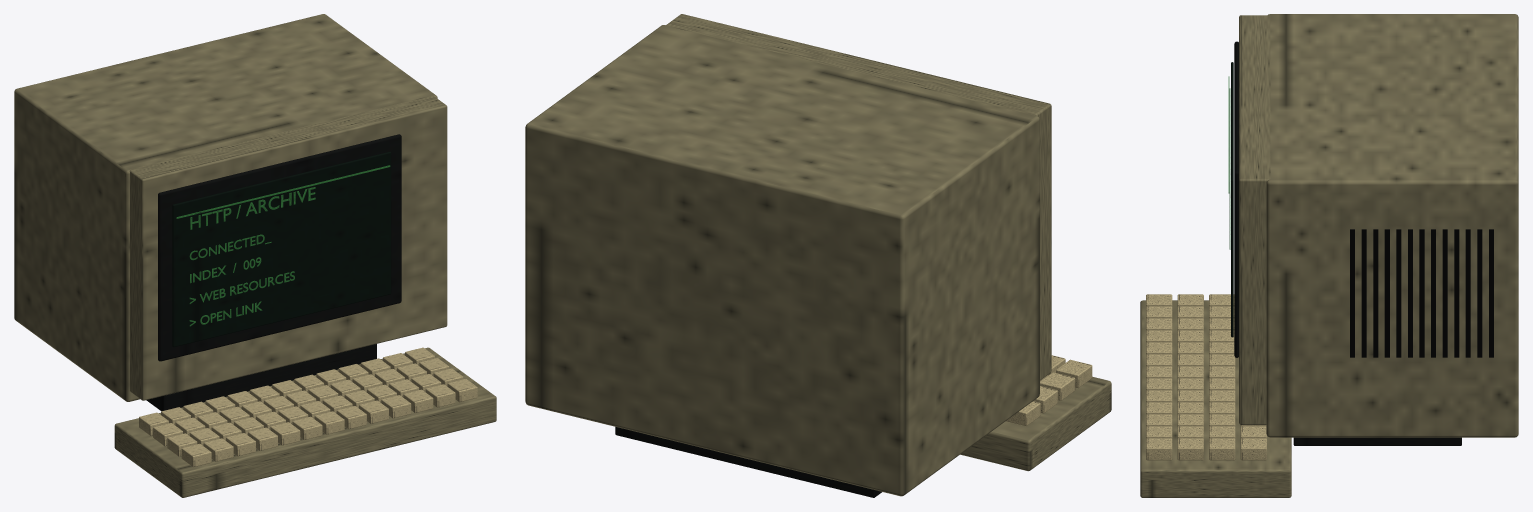
Rendered from web.glb.
3 views of the same model, side by side, from view 1: azimuth 30°, elevation 25°; view 2: azimuth 150°, elevation 25°; view 3: azimuth 270°, elevation 25° (orthographic). The views are drawn at different scales.
Visible parts, largest first — view 1: Deep CRT enclosure, Front bezel, Flat phosphor face, Angular keyboard, Screen recess, Computer foot, Terminal heading, Screen text.002, Small key, Scan highlight; view 2: Deep CRT enclosure, Front bezel, Angular keyboard, Computer foot; view 3: Deep CRT enclosure, Front bezel, Angular keyboard, Screen recess, Computer foot, Flat phosphor face, Side ventilation.001, Side ventilation.002, Side ventilation.003, Side ventilation.004, Side ventilation.006, Side ventilation.008 (+11 smaller).
Part boxes in pixels (x1=…): Deep CRT enclosure: x1=14, y1=14, x2=437, y2=401; Front bezel: x1=129, y1=95, x2=447, y2=400; Flat phosphor face: x1=172, y1=151, x2=391, y2=347; Angular keyboard: x1=114, y1=347, x2=496, y2=497; Screen recess: x1=158, y1=134, x2=401, y2=361; Computer foot: x1=146, y1=344, x2=376, y2=411; Terminal heading: x1=190, y1=187, x2=315, y2=229; Screen text.002: x1=189, y1=271, x2=294, y2=303; Small key: x1=181, y1=443, x2=211, y2=467; Scan highlight: x1=176, y1=165, x2=390, y2=218; Deep CRT enclosure: x1=525, y1=25, x2=1039, y2=496; Front bezel: x1=666, y1=14, x2=1051, y2=380; Angular keyboard: x1=960, y1=376, x2=1111, y2=471; Computer foot: x1=615, y1=427, x2=881, y2=497; Deep CRT enclosure: x1=1266, y1=14, x2=1518, y2=437; Front bezel: x1=1239, y1=15, x2=1270, y2=424; Angular keyboard: x1=1140, y1=300, x2=1291, y2=497; Screen recess: x1=1234, y1=41, x2=1238, y2=357; Computer foot: x1=1293, y1=437, x2=1461, y2=445; Flat phosphor face: x1=1231, y1=62, x2=1233, y2=337; Side ventilation.001: x1=1361, y1=229, x2=1366, y2=357; Side ventilation.002: x1=1373, y1=229, x2=1378, y2=357; Side ventilation.003: x1=1384, y1=229, x2=1389, y2=357; Side ventilation.004: x1=1396, y1=229, x2=1401, y2=357; Side ventilation.006: x1=1419, y1=229, x2=1424, y2=357; Side ventilation.008: x1=1442, y1=229, x2=1447, y2=357.
Bounding box in the file's own units: 2.4 × 2.08 × 2.25.
6 materials, 6 textured.
